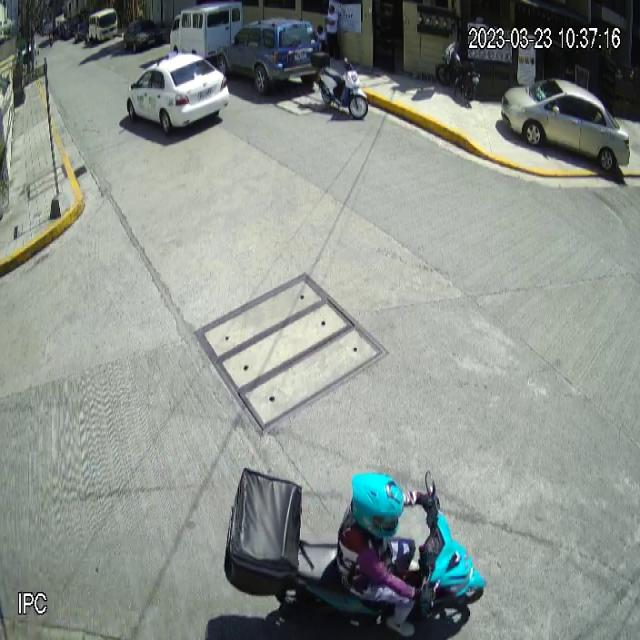Car: (501, 79, 631, 172), (126, 52, 232, 135), (217, 16, 323, 96)
Motorcycle: (276, 466, 488, 630), (309, 49, 369, 120)
Van: (170, 0, 243, 55)
